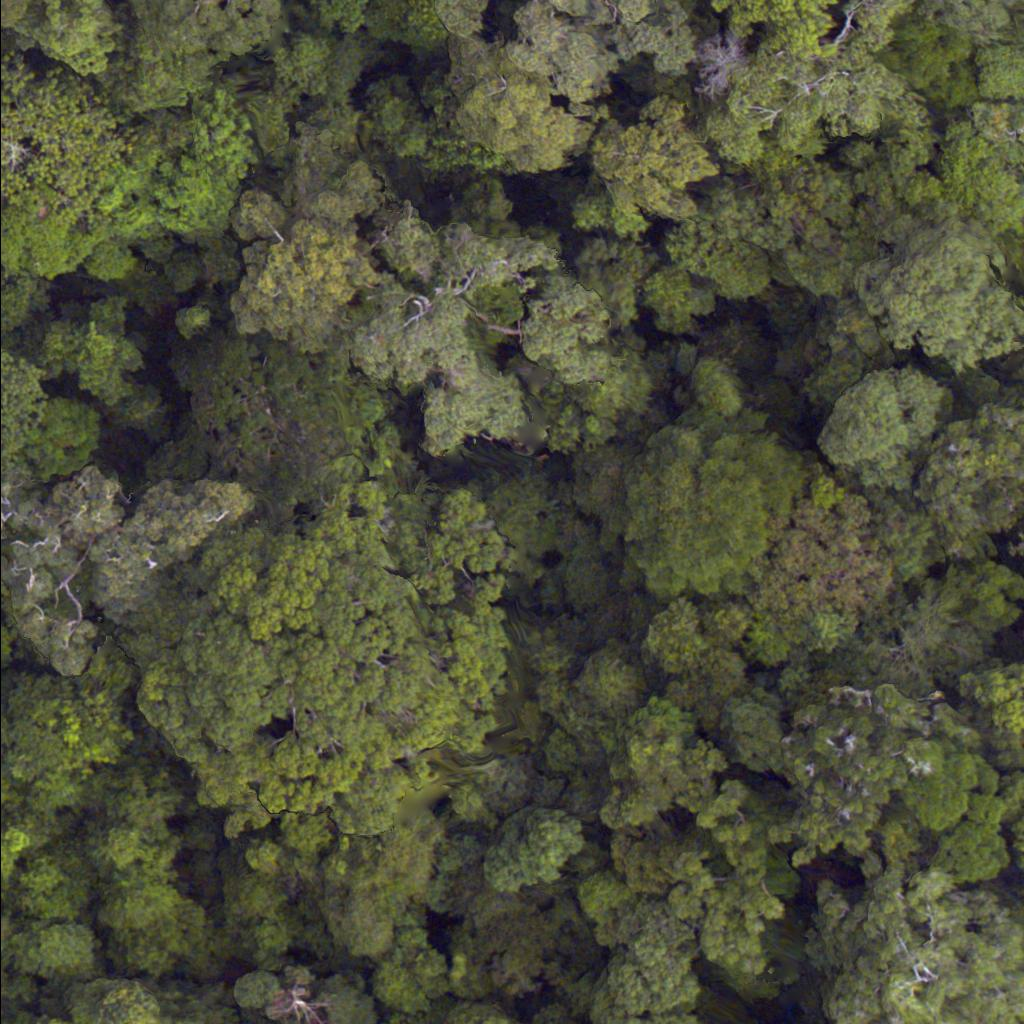crown: (133, 450, 518, 852), (351, 216, 612, 456), (148, 303, 385, 494), (625, 411, 797, 600), (811, 870, 1023, 1023), (242, 146, 379, 353), (854, 216, 1023, 375), (431, 45, 591, 171), (713, 167, 852, 296), (789, 710, 905, 864), (591, 96, 716, 234), (920, 404, 1023, 556), (816, 370, 942, 488), (209, 956, 393, 1023), (941, 122, 1023, 232), (14, 837, 103, 926), (712, 0, 841, 56), (901, 740, 979, 831), (931, 792, 1006, 882), (0, 354, 42, 490), (916, 0, 1023, 47), (973, 104, 1023, 171), (976, 45, 1023, 100), (1017, 822, 1023, 865)
